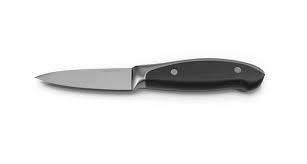Knife: (34, 57, 265, 92)
